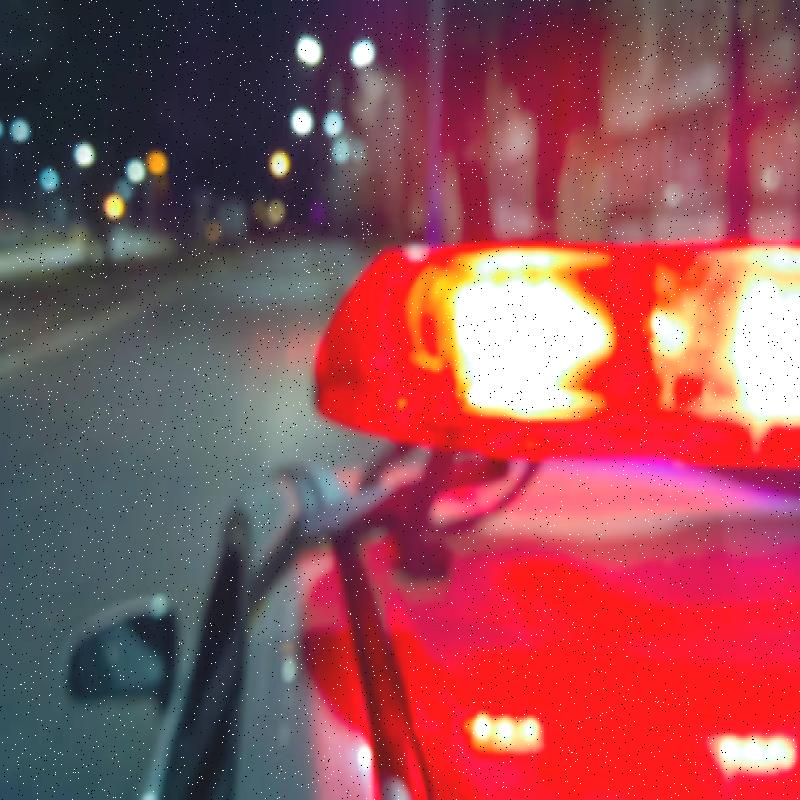AmbulanceSiren: (288, 144, 800, 548)
